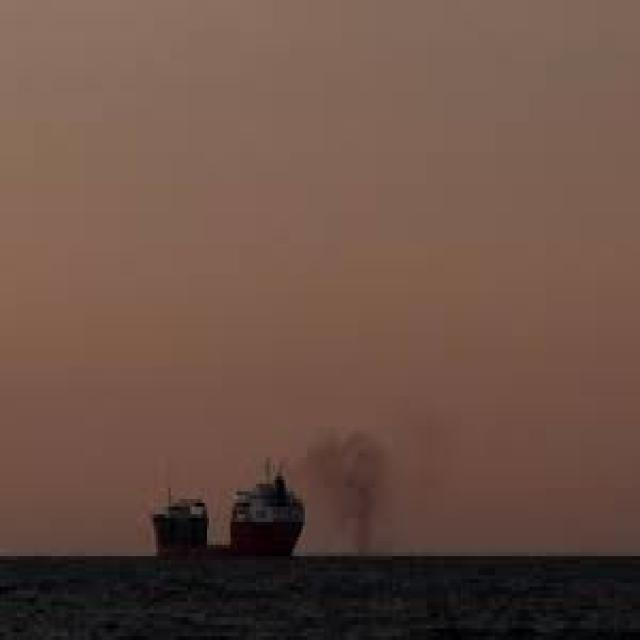cargoship: (228, 475, 304, 561), (153, 467, 217, 552)
